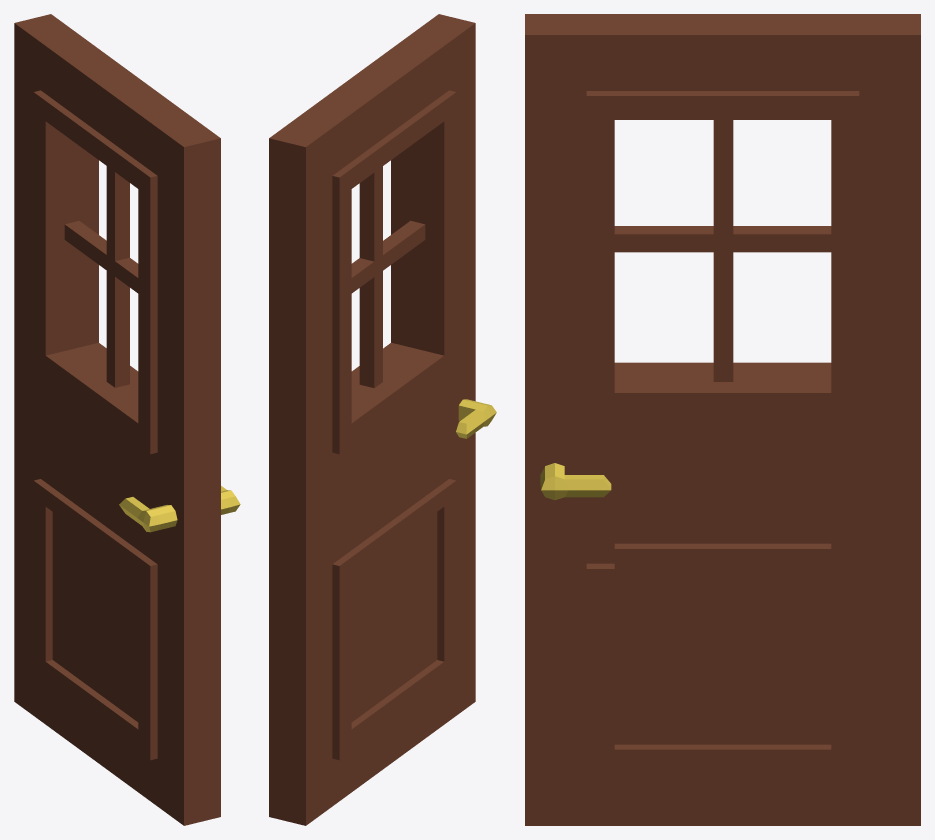
Rendered from door_exterior.fbx.
3 renders of one model, left to right at view 1: azimuth 30°, elevation 25°; view 2: azimuth 150°, elevation 25°; view 3: azimuth 270°, elevation 25°, orthographic. The views are drawn at different scales.
Visible parts, largest first — view 1: door_exterior; view 2: door_exterior; view 3: door_exterior.
Part boxes in pixels (x1,y1,x2,y2): door_exterior: [14, 14, 240, 825]; door_exterior: [269, 14, 496, 825]; door_exterior: [525, 14, 920, 825].
Bounding box in the file's own units: 30.92 × 219 × 99.33.
